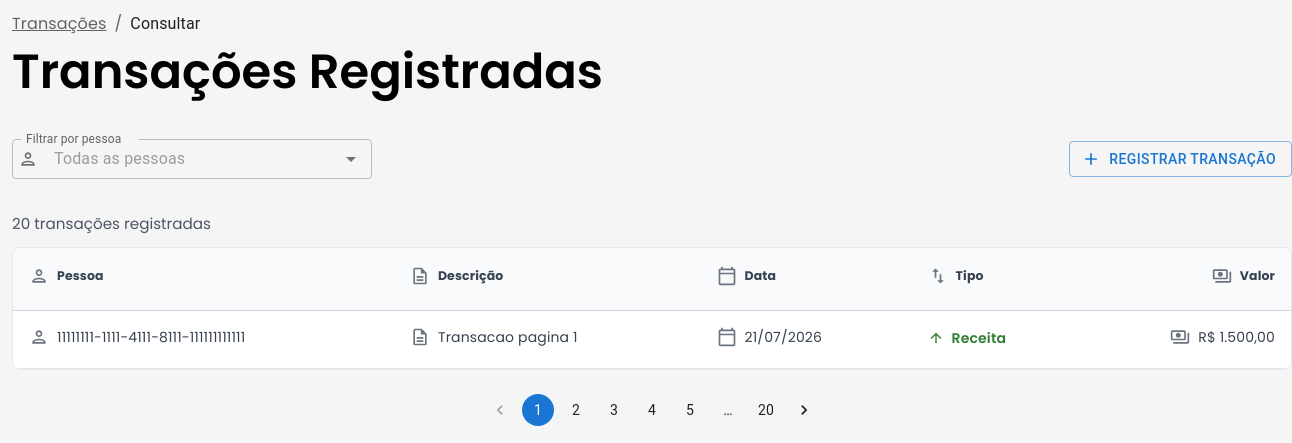
Test: TransactionsConsultPage › carrega paginas sob demanda e reaproveita cache ao voltar
Expected: the text "Transacao pagina 1" is shown, [438,327,578,347]
Click the button "2".
click(576, 410)  # box [560,394,592,426]
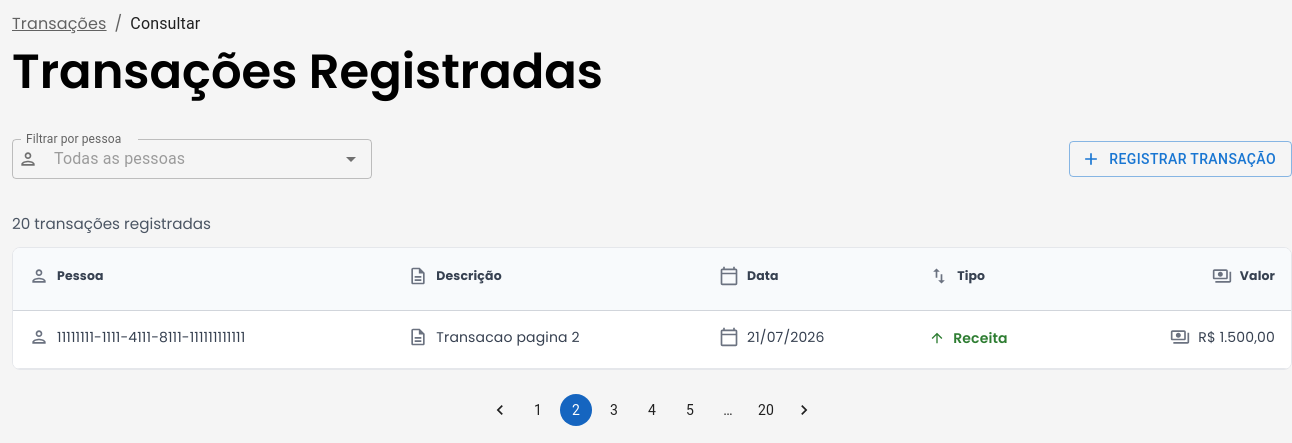
Result: the text "Transacao pagina 2" is shown at [436,327,580,347]
Click the button "1".
click(538, 410)  # box [522,394,554,426]
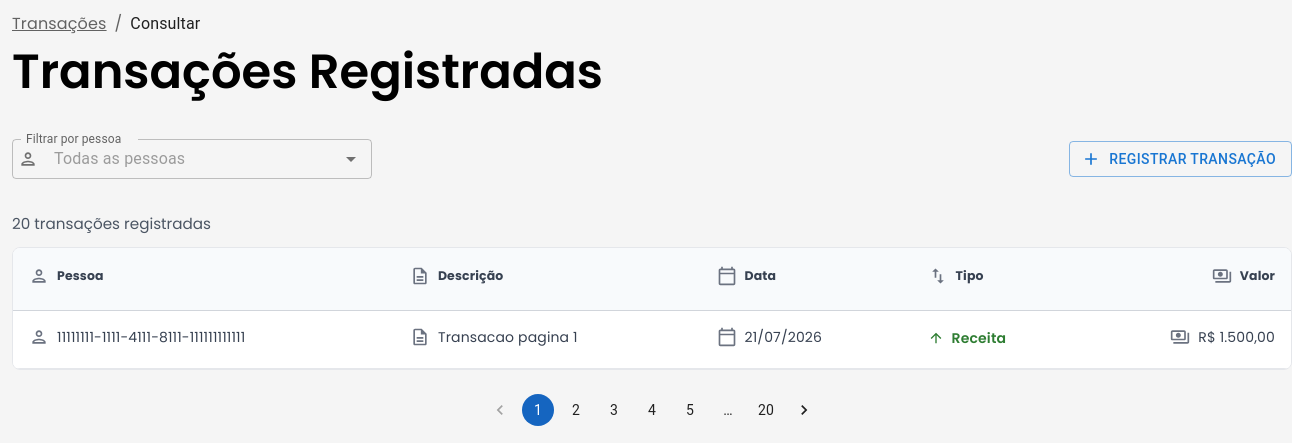
Result: the text "Transacao pagina 1" is shown at [438,327,578,347]
